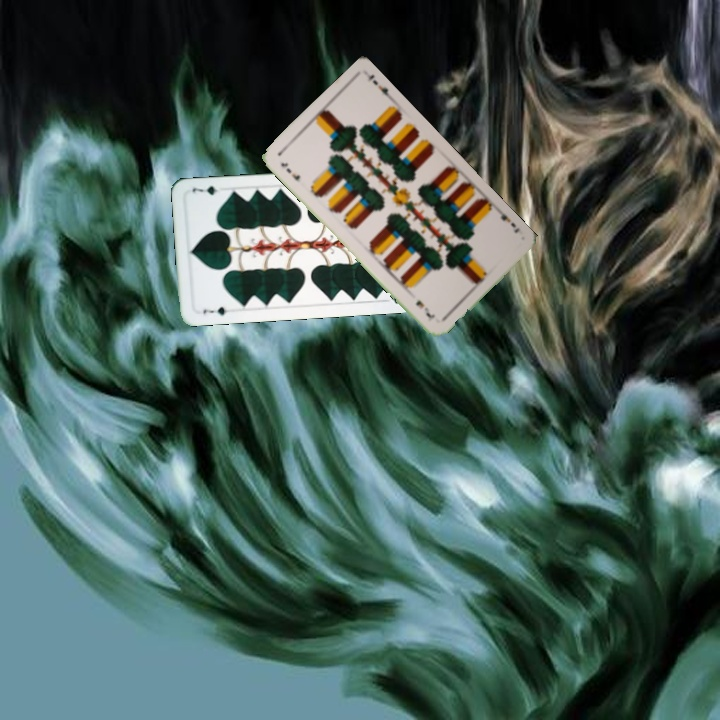E7: (494, 205, 522, 236), (276, 158, 303, 183)
G7: (199, 303, 234, 318)
